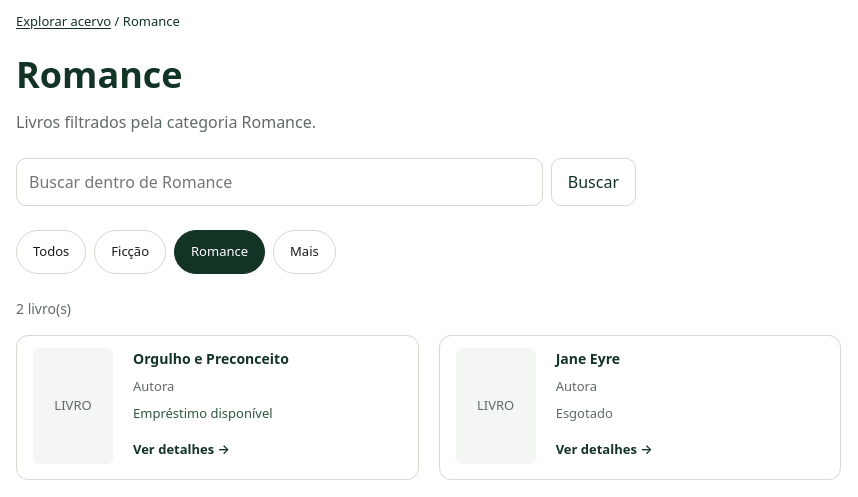
Scenario: GenreBooksComponent › mantém a busca e o foco enquanto a lista recarrega
Type "jane" into the search field with id "genre-search" at (279, 182), box [16,158,543,206]
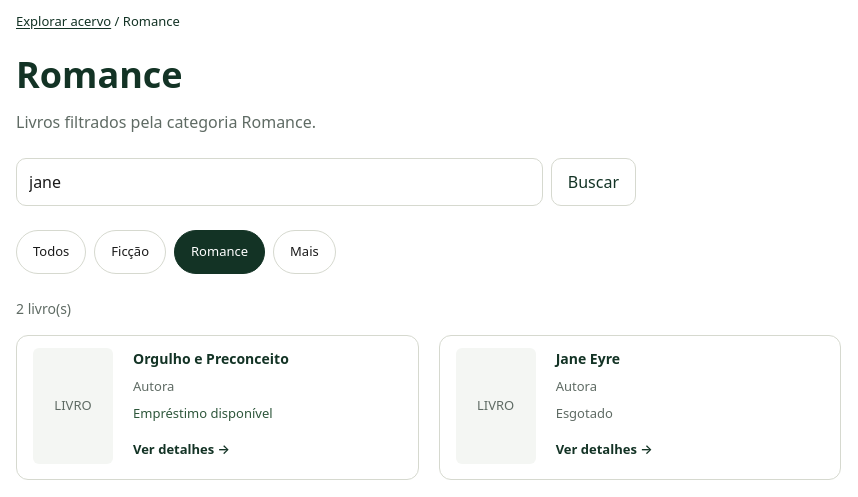
Submit the form with class "genre__search", box [16,158,636,206]
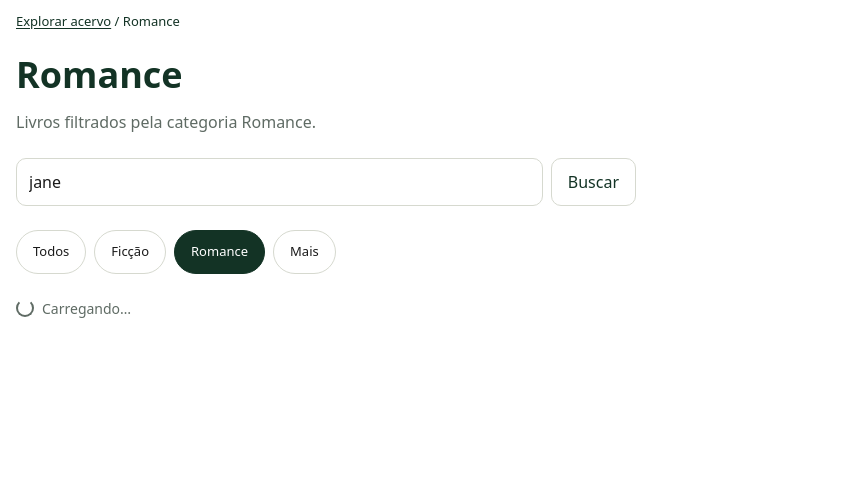
Result: the text "Carregando" is shown at [42,298,131,318]
